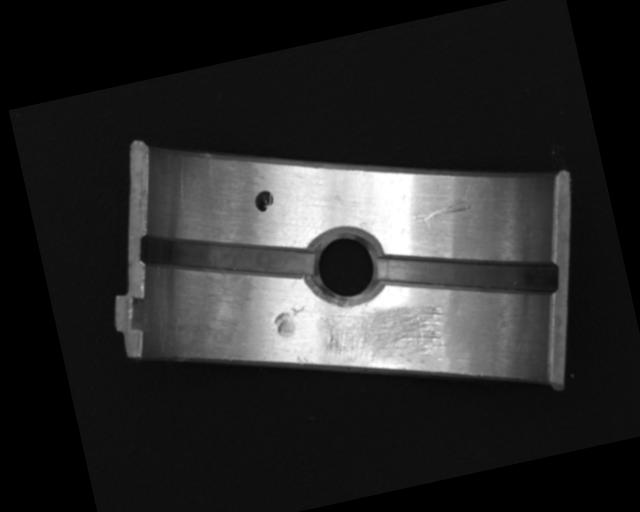blot: (252, 188, 276, 213)
bruise: (271, 303, 312, 340), (294, 352, 313, 369)
gap: (137, 199, 316, 311), (376, 222, 559, 328)
hole: (300, 219, 392, 314)
nick: (411, 196, 473, 226)
scratch: (311, 287, 456, 387)
